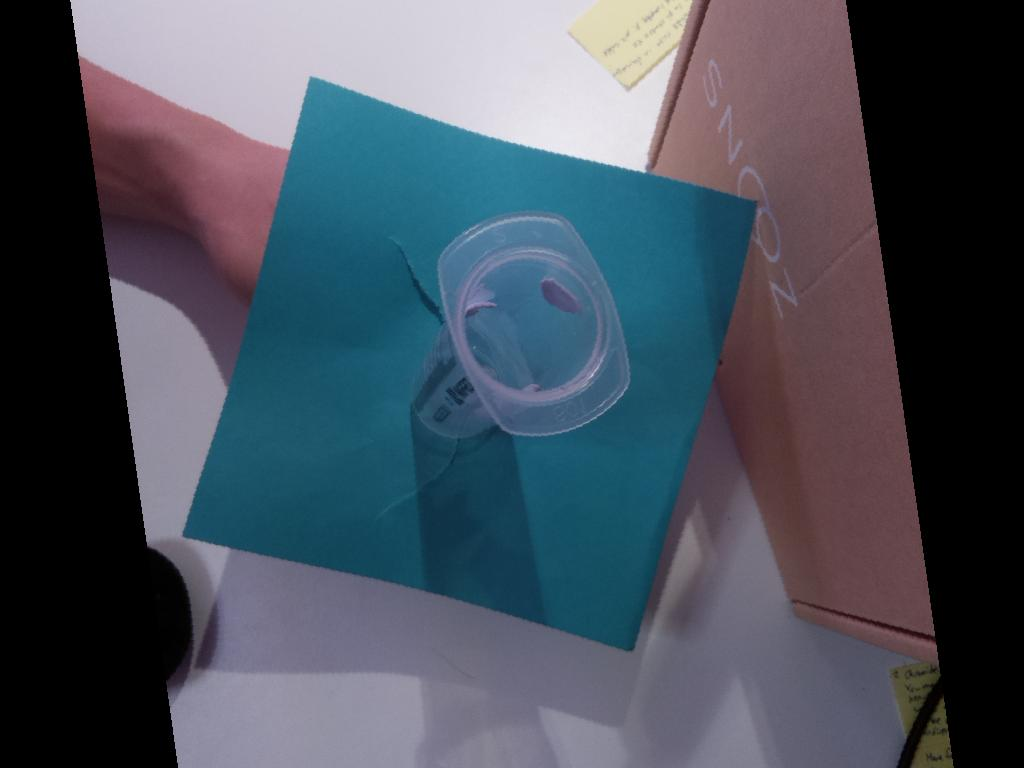dirty: (432, 212, 629, 440)
